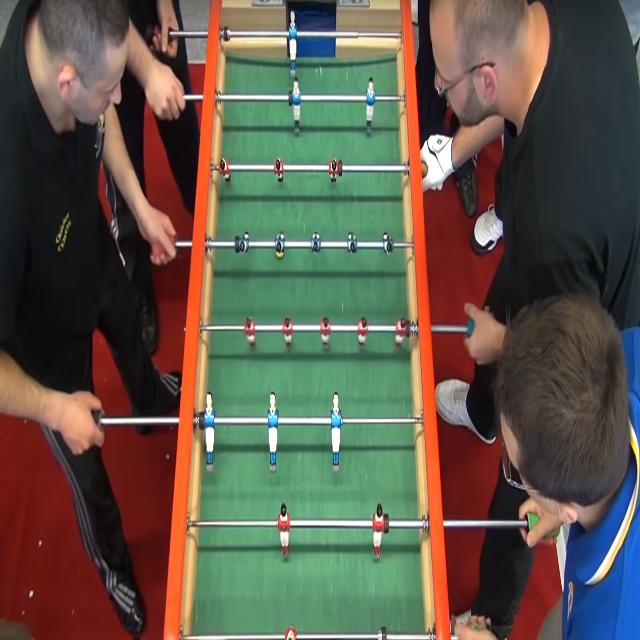ball: (273, 248, 289, 259)
